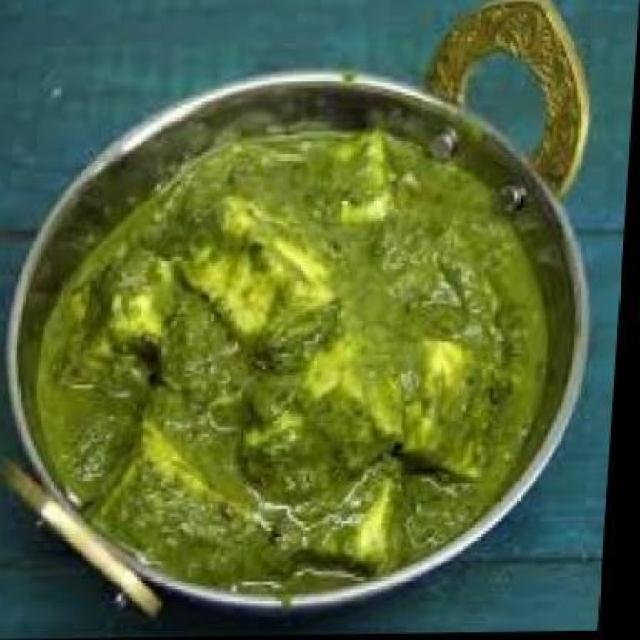palak_paneer: (28, 129, 564, 603)
